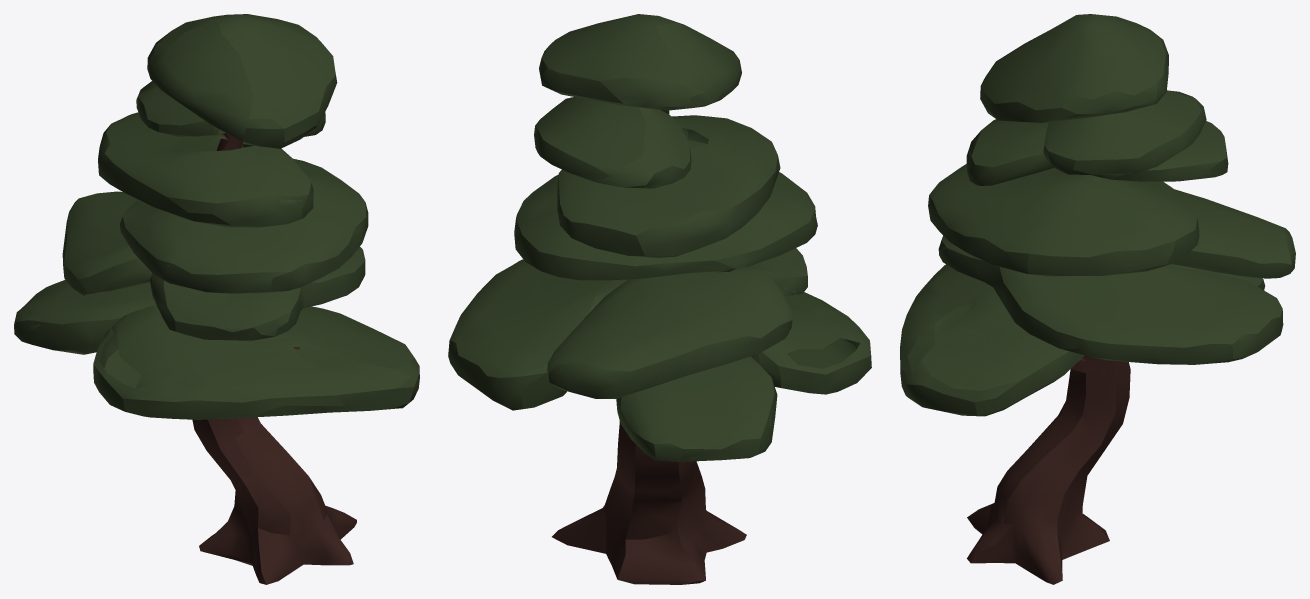
The model's file is ENV_09_PINE.glb.
3 views of the same model, side by side, from view 1: azimuth 30°, elevation 25°; view 2: azimuth 150°, elevation 25°; view 3: azimuth 270°, elevation 25° (orthographic). The views are drawn at different scales.
Visible parts, largest first — view 1: world; view 2: world; view 3: world.
Part boxes in pixels (x1=…): world: x1=14, y1=14, x2=419, y2=584; world: x1=448, y1=14, x2=871, y2=584; world: x1=900, y1=14, x2=1295, y2=584.
Bounding box in the file's own units: 0.5963 × 1 × 0.6975.
1 material, 1 textured.
